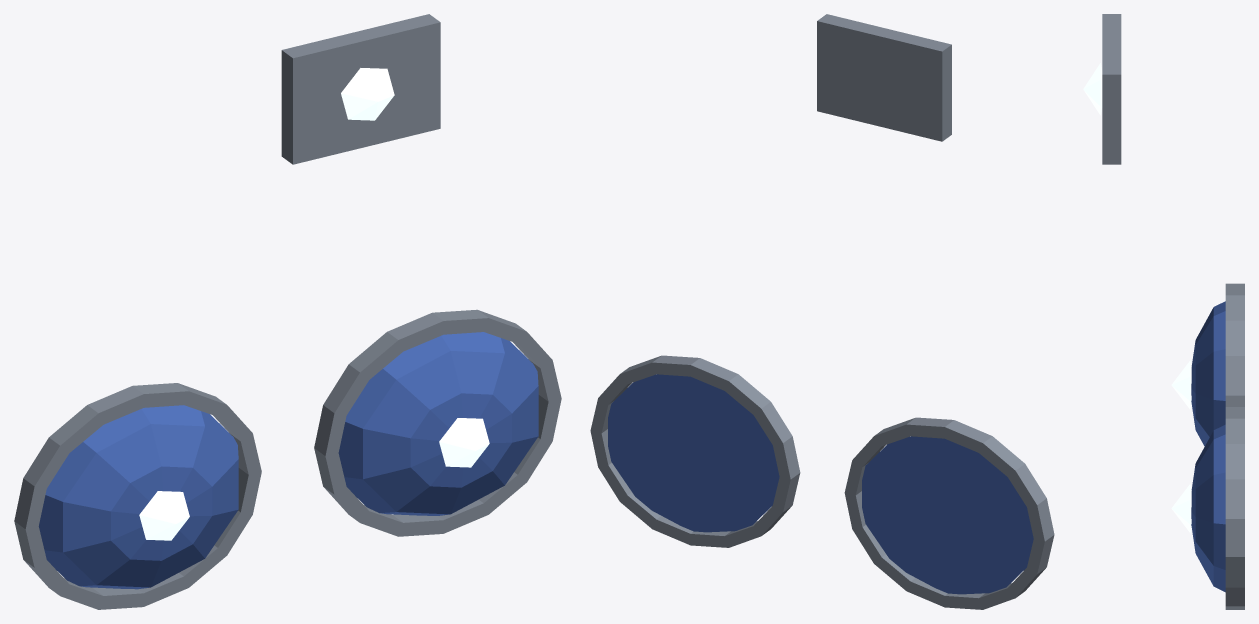
File: armor_lord_legs_rare_human.glb
The picture shows the model from 3 angles, left to right: view 1: azimuth 30°, elevation 25°; view 2: azimuth 150°, elevation 25°; view 3: azimuth 270°, elevation 25°; orthographic projection. The views are drawn at different scales.
Visible parts, largest first — view 1: armor_lord_legs_rare_human__calf_l, armor_lord_legs_rare_human__calf_r, armor_lord_legs_rare_human__pelvis; view 2: armor_lord_legs_rare_human__calf_l, armor_lord_legs_rare_human__calf_r, armor_lord_legs_rare_human__pelvis; view 3: armor_lord_legs_rare_human__calf_l, armor_lord_legs_rare_human__calf_r, armor_lord_legs_rare_human__pelvis.
Part boxes in pixels (bbox=[...]): armor_lord_legs_rare_human__calf_l: bbox=[314, 309, 561, 536]; armor_lord_legs_rare_human__calf_r: bbox=[14, 383, 261, 609]; armor_lord_legs_rare_human__pelvis: bbox=[281, 14, 440, 164]; armor_lord_legs_rare_human__calf_l: bbox=[590, 355, 800, 547]; armor_lord_legs_rare_human__calf_r: bbox=[844, 417, 1054, 609]; armor_lord_legs_rare_human__pelvis: bbox=[817, 14, 951, 141]; armor_lord_legs_rare_human__calf_l: bbox=[1171, 407, 1244, 609]; armor_lord_legs_rare_human__calf_r: bbox=[1171, 283, 1244, 446]; armor_lord_legs_rare_human__pelvis: bbox=[1083, 14, 1121, 164].
Size of the model in its own units: 32.67 by 34 by 10.12.
